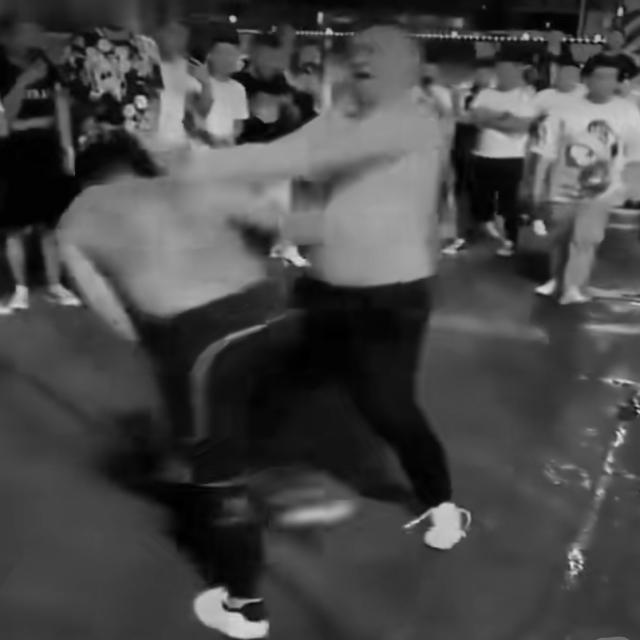fight: (53, 22, 452, 368)
nofight: (531, 58, 635, 317), (446, 48, 541, 282), (0, 21, 70, 331)
